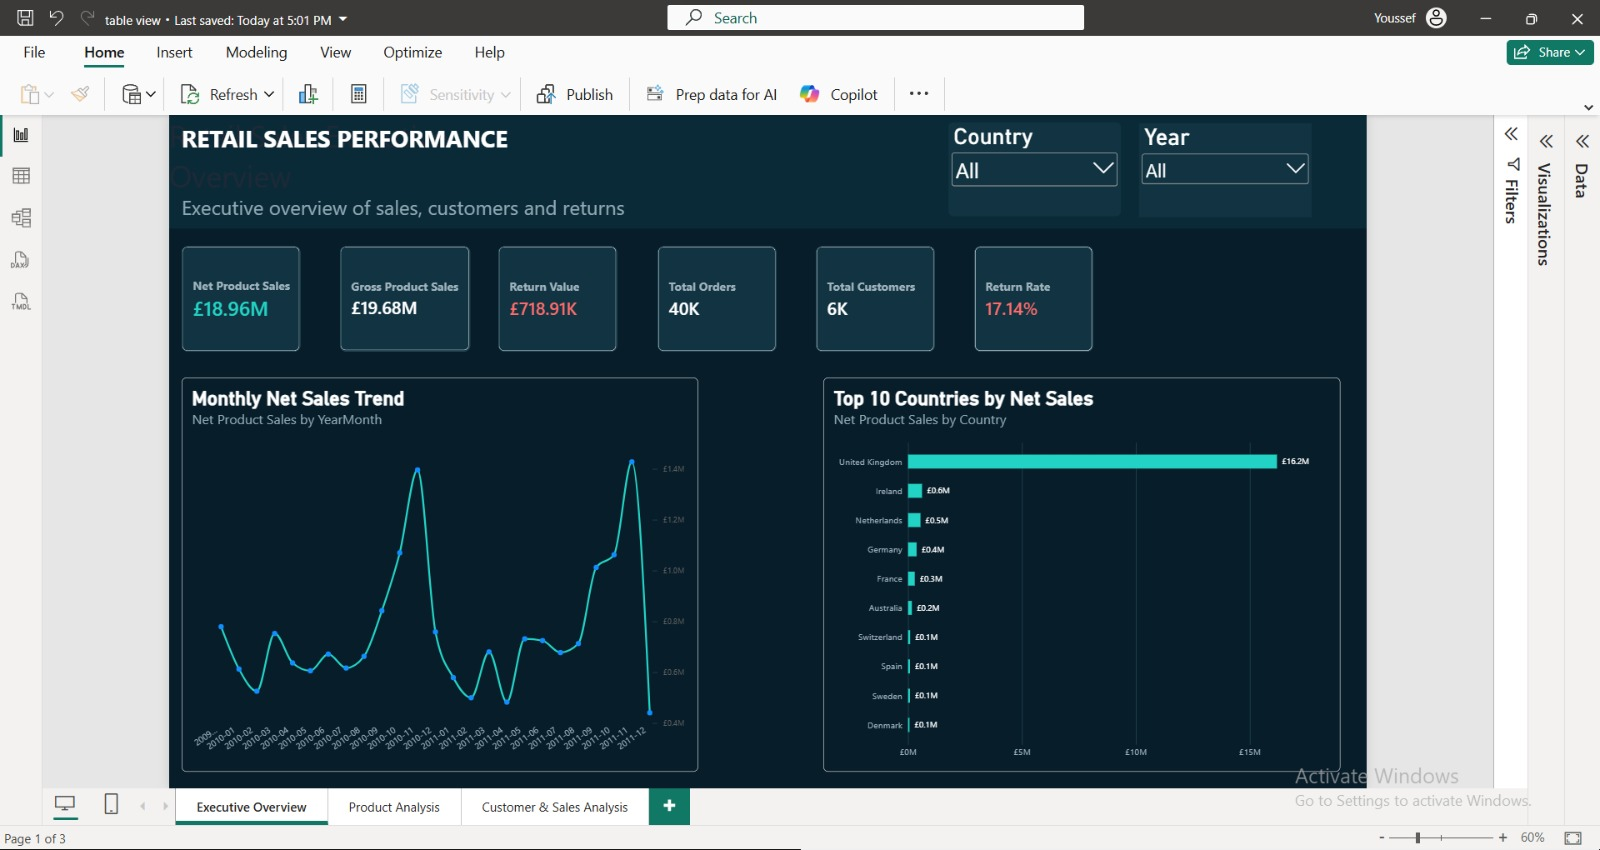

The dashboard page shown, as its layout file describes it:
{"tool":"powerbi","page":{"name":"Executive Overview","canvas":[1920,1080],"ordinal":0},"visuals":[{"type":"shape","box":[0,0,1920.2,182],"z":0},{"type":"cardVisual","title":"Net Sales","fields":{"Data":["_Measures.Net Product Sales"]},"box":[20,210.3,190,169],"z":1000},{"type":"cardVisual","title":"Gross Sales","fields":{"Data":["_Measures.Gross Product Sales"]},"box":[273.8,210.4,208.7,168.6],"z":2000},{"type":"cardVisual","title":"Return Value","fields":{"Data":["_Measures.Return Value"]},"box":[528.4,210.3,190,169],"z":3000},{"type":"cardVisual","title":"Total Orders","fields":{"Data":["_Measures.Total Orders"]},"box":[782.6,210.3,190,169],"z":4000},{"type":"cardVisual","title":"Total Customers","fields":{"Data":["_Measures.Total Customers"]},"box":[1036.8,210.3,190,169],"z":5000},{"type":"cardVisual","title":"Return Rate","fields":{"Data":["_Measures.Return Rate"]},"box":[1291,210.3,190,169],"z":6000},{"type":"textbox","box":[0,0,505.5,169.8],"z":7000},{"type":"lineChart","title":"Monthly Net Sales Trend","fields":{"Category":["Dim_Date.YearMonth"],"Y2":["_Measures.Net Product Sales"]},"box":[19.8,421.5,828,632.2],"z":8000},{"type":"barChart","title":"Top 10 Countries by Net Sales","fields":{"Category":["Dim_Country.Country"],"Y":["_Measures.Net Product Sales"]},"box":[1048.3,421.5,828.5,632.2],"z":9000},{"type":"textbox","box":[20.1,12.1,650.7,100.4],"z":10000},{"type":"textbox","box":[20,125.2,963.5,43.4],"z":11000},{"type":"slicer","fields":{"Values":["Dim_Country.Country"]},"box":[1249.2,12.1,277,150],"z":12000},{"type":"slicer","fields":{"Values":["Dim_Date.Year"]},"box":[1555.3,13,277,150],"z":13000}]}

Visuals, with their boxes on the page's 1920x1080 design canvas (x1, y1, x2, y2). These are canvas units, not pixel positions in the 1600x850 screenshot, which may show the page scaled, cropped or inside an application window:
shape: bbox=[0, 0, 1920, 182]
"Net Sales" cardVisual: bbox=[20, 210, 210, 379]
"Gross Sales" cardVisual: bbox=[274, 210, 482, 379]
"Return Value" cardVisual: bbox=[528, 210, 718, 379]
"Total Orders" cardVisual: bbox=[783, 210, 973, 379]
"Total Customers" cardVisual: bbox=[1037, 210, 1227, 379]
"Return Rate" cardVisual: bbox=[1291, 210, 1481, 379]
textbox: bbox=[0, 0, 506, 170]
"Monthly Net Sales Trend" lineChart: bbox=[20, 422, 848, 1054]
"Top 10 Countries by Net Sales" barChart: bbox=[1048, 422, 1877, 1054]
textbox: bbox=[20, 12, 671, 112]
textbox: bbox=[20, 125, 984, 169]
slicer - Dim_Country.Country: bbox=[1249, 12, 1526, 162]
slicer - Dim_Date.Year: bbox=[1555, 13, 1832, 163]
